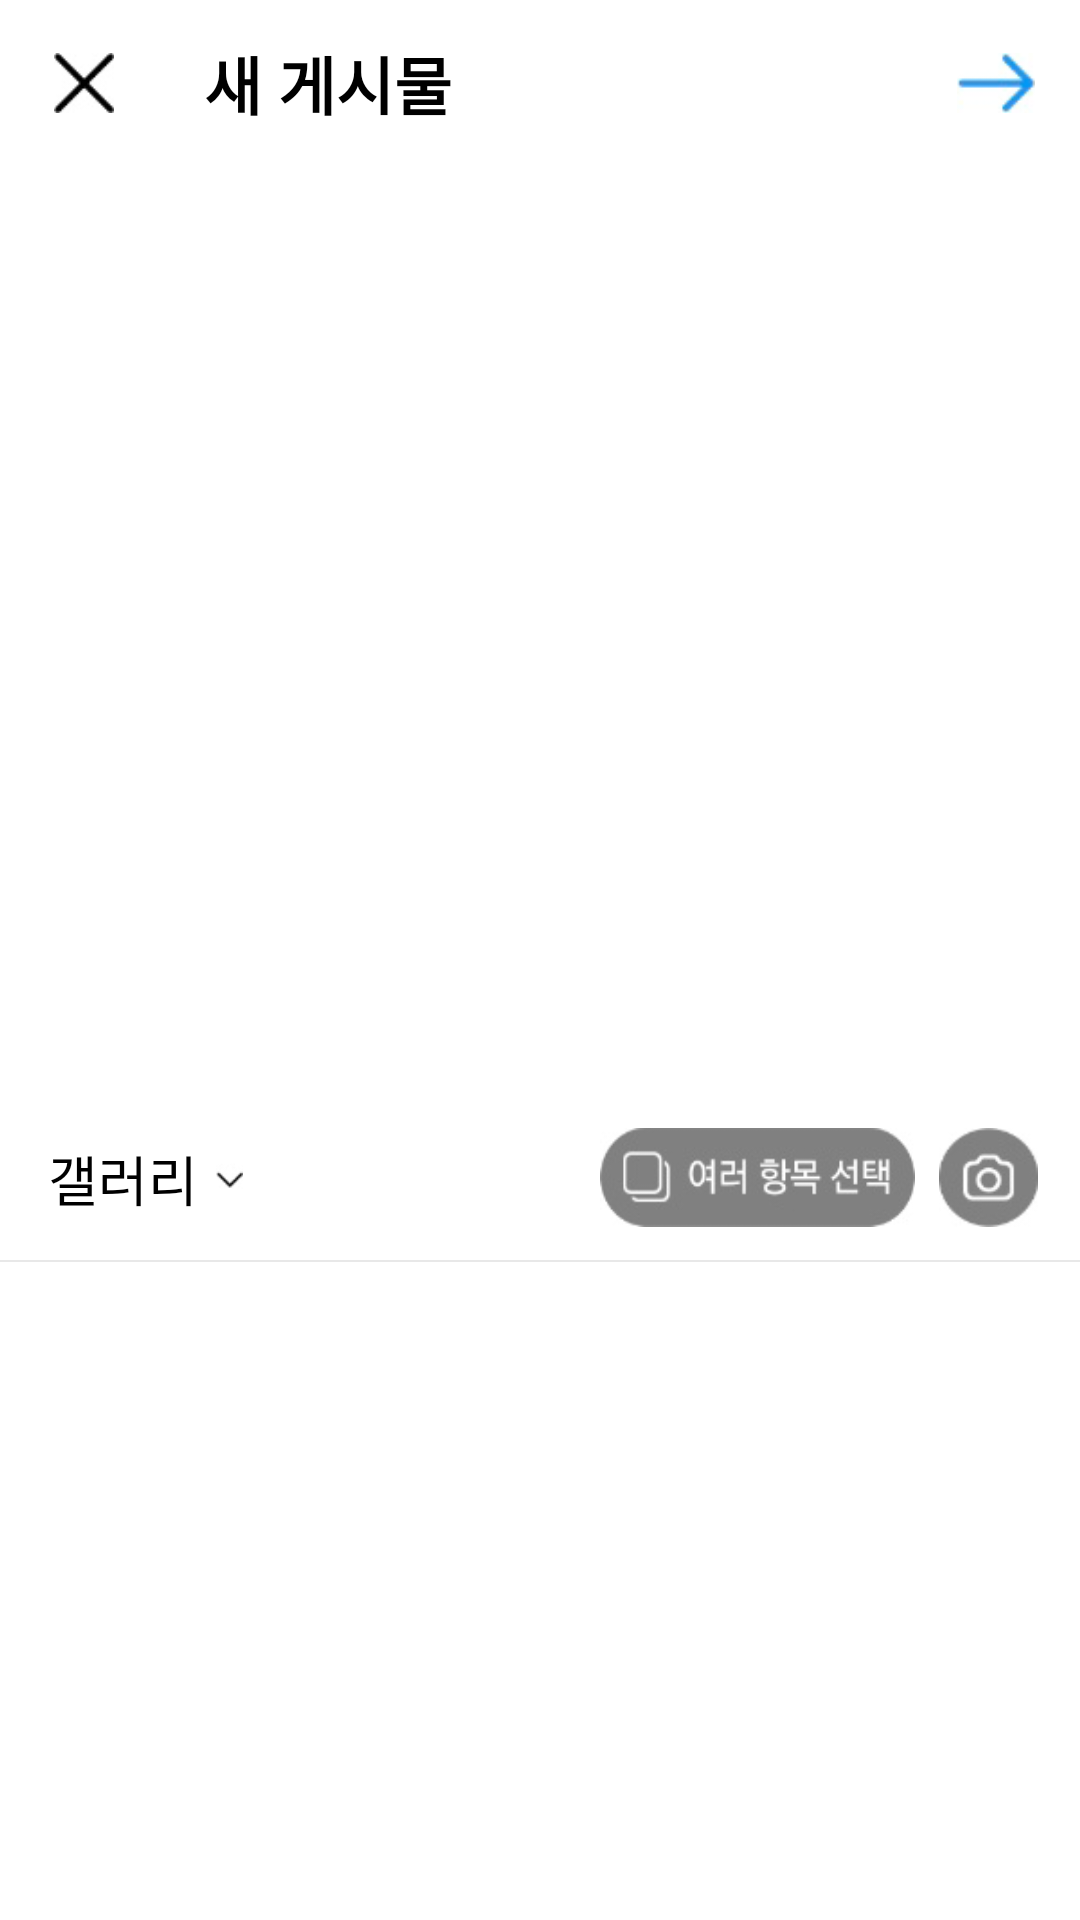

Icons on this 1080x1920 Android screen, each with the point to tap as point (x, y):
close: point (84, 83)
